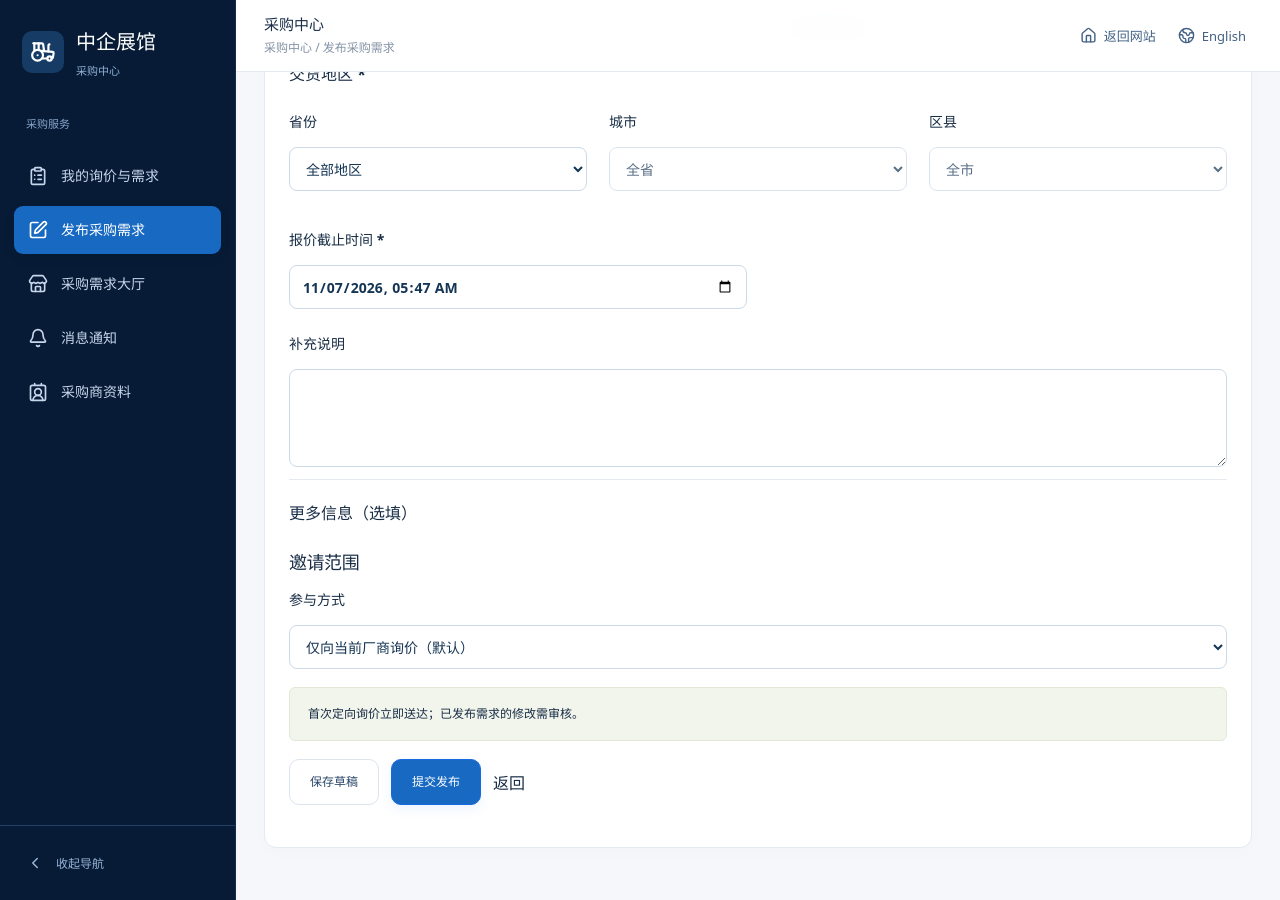
Test case: does not mark async buyer and product defaults as unsaved edits
(page scrolled)
Expected: the field showing "采购员" is shown, [289,5,747,49]
Click the link "返回" at [509, 782], box [493,770,525,794]
(page scrolled)
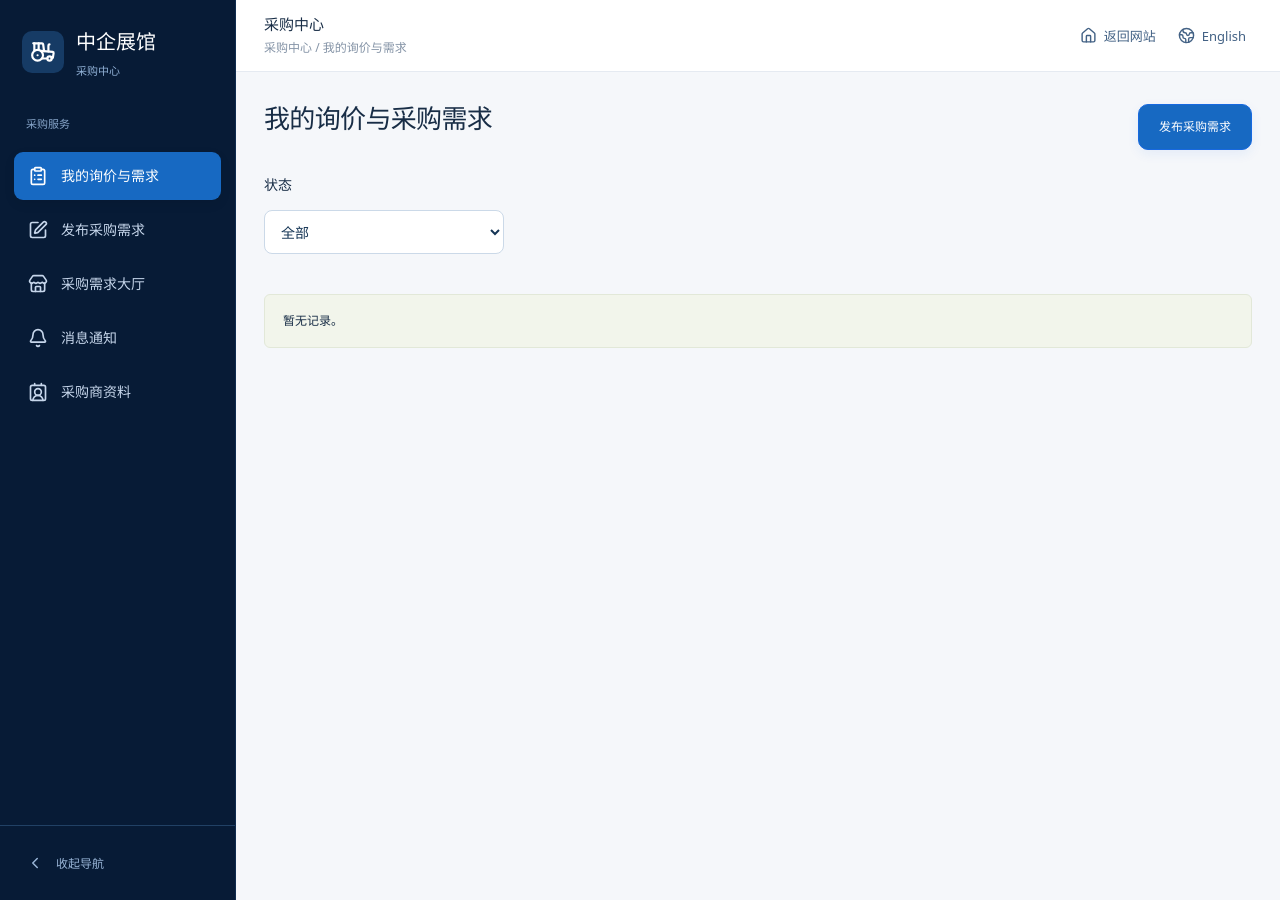
Expected: the heading "我的询价与采购需求" is shown, [264,100,492,136]
